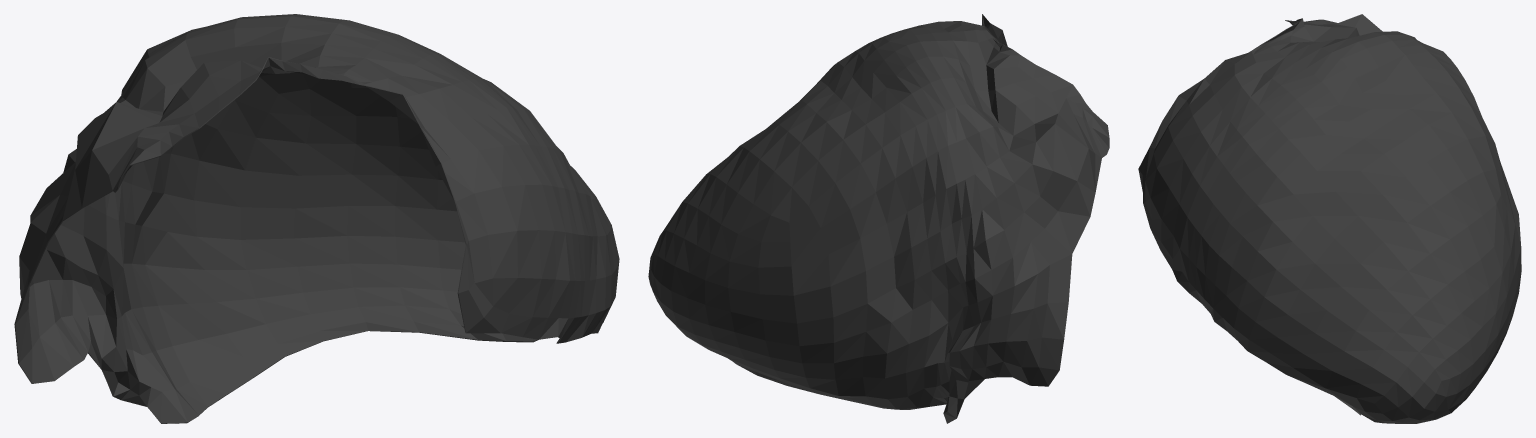
Rendered from Heart.glb.
The picture shows the model from 3 angles, left to right: view 1: azimuth 30°, elevation 25°; view 2: azimuth 150°, elevation 25°; view 3: azimuth 270°, elevation 25°; orthographic projection. The views are drawn at different scales.
Visible parts, largest first — view 1: Heart; view 2: Heart; view 3: Heart.
Part boxes in pixels (<box>): Heart: <box>14,14,619,423</box>; Heart: <box>648,14,1109,423</box>; Heart: <box>1138,14,1521,423</box>.
Bounding box in the file's own units: 0.8155 × 0.5929 × 0.6682.
1 material, 1 textured.
